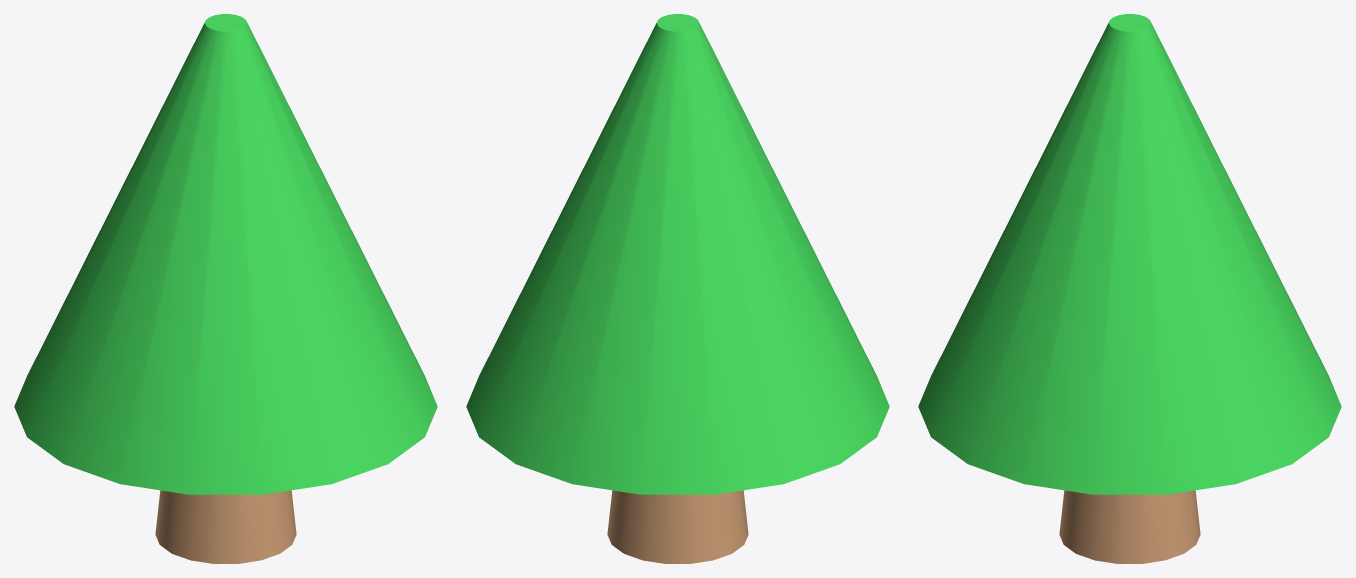
Rendered from Tree_Cone.fbx.
3 views of the same model, side by side, from view 1: azimuth 30°, elevation 25°; view 2: azimuth 150°, elevation 25°; view 3: azimuth 270°, elevation 25° (orthographic).
Visible parts, largest first — view 1: Tree.Cone; view 2: Tree.Cone; view 3: Tree.Cone.
Part boxes in pixels (box(x1,y1,x2,y2)): Tree.Cone: box(14, 14, 437, 563); Tree.Cone: box(466, 14, 889, 563); Tree.Cone: box(918, 14, 1341, 563).
Size of the model in its own units: 591 by 800 by 600.
